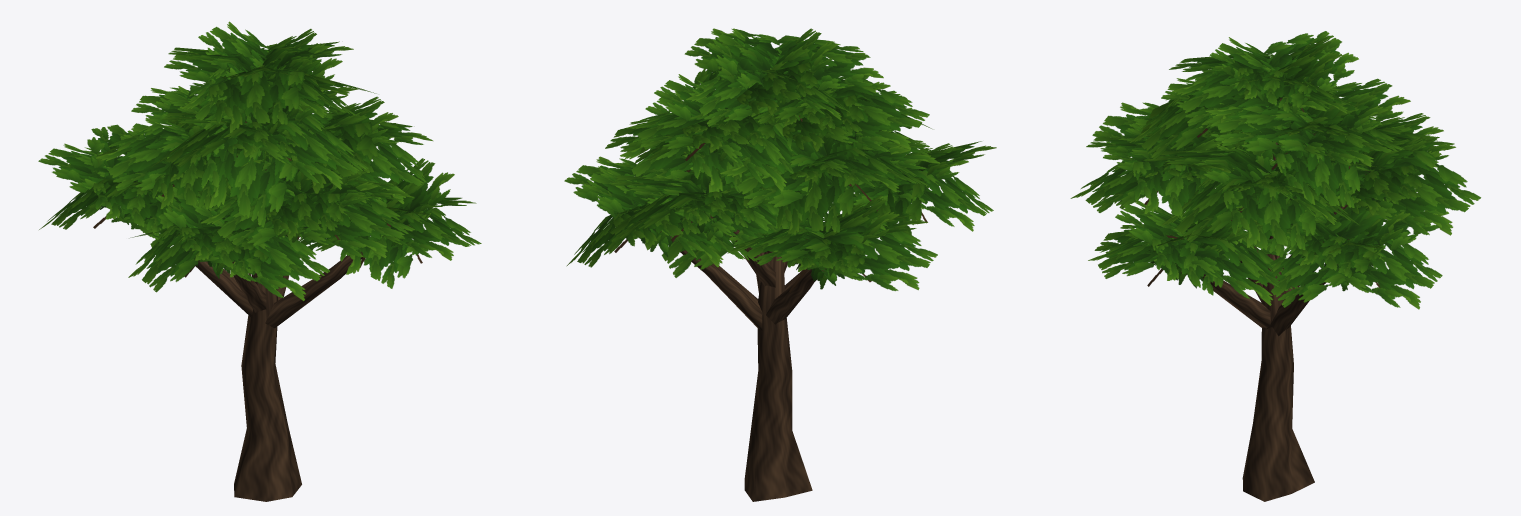
File: tree_oak_3d.glb
3 renders of one model, left to right at view 1: azimuth 30°, elevation 25°; view 2: azimuth 150°, elevation 25°; view 3: azimuth 270°, elevation 25°, orthographic. The views are drawn at different scales.
Visible parts, largest first — view 1: Tree_Oak_3D; view 2: Tree_Oak_3D; view 3: Tree_Oak_3D.
Boxes of the visible parts, x1,y1,x2,y2 form: Tree_Oak_3D: (38,21,481,501); Tree_Oak_3D: (564,28,996,501); Tree_Oak_3D: (1070,31,1480,501).
Size of the model in its own units: 2.35 by 2.66 by 2.55.
1 material, 1 textured.
